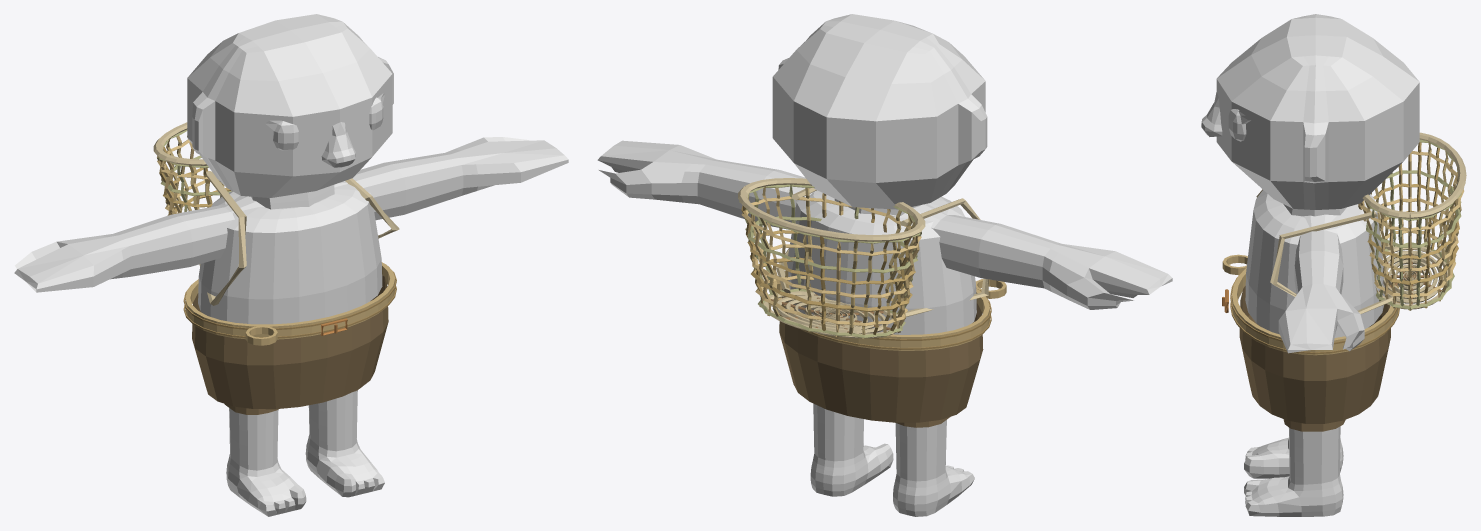
File: yeni karakter.fbx
3 renders of one model, left to right at view 1: azimuth 30°, elevation 25°; view 2: azimuth 150°, elevation 25°; view 3: azimuth 270°, elevation 25°, orthographic. The views are drawn at different scales.
Visible parts, largest first — view 1: Seviye_1_Karakter, Seviye_1_Şort, Seviye_3_Çanta_Parça_1, Seviye_1_Kemer; view 2: Seviye_1_Karakter, Seviye_3_Çanta_Parça_1, Seviye_1_Şort, Seviye_1_Kemer; view 3: Seviye_1_Karakter, Seviye_3_Çanta_Parça_1, Seviye_1_Şort, Seviye_1_Kemer.
Boxes of the visible parts, <box> form: Seviye_1_Karakter: <box>14,14,568,516</box>; Seviye_1_Şort: <box>192,275,388,414</box>; Seviye_3_Çanta_Parça_1: <box>153,122,399,305</box>; Seviye_1_Kemer: <box>183,262,396,345</box>; Seviye_1_Karakter: <box>597,14,1172,516</box>; Seviye_3_Çanta_Parça_1: <box>738,178,988,339</box>; Seviye_1_Şort: <box>779,289,983,427</box>; Seviye_1_Kemer: <box>772,271,1006,350</box>; Seviye_1_Karakter: <box>1201,14,1419,516</box>; Seviye_3_Çanta_Parça_1: <box>1256,132,1466,314</box>; Seviye_1_Şort: <box>1239,286,1390,431</box>; Seviye_1_Kemer: <box>1222,254,1399,355</box>.
Size of the model in its own units: 9.08 by 7.35 by 3.89.
